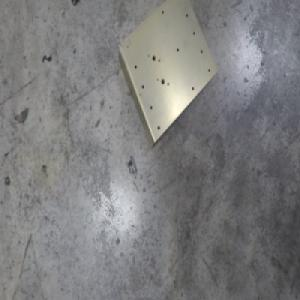MetalSheet: (116, 0, 218, 151)
